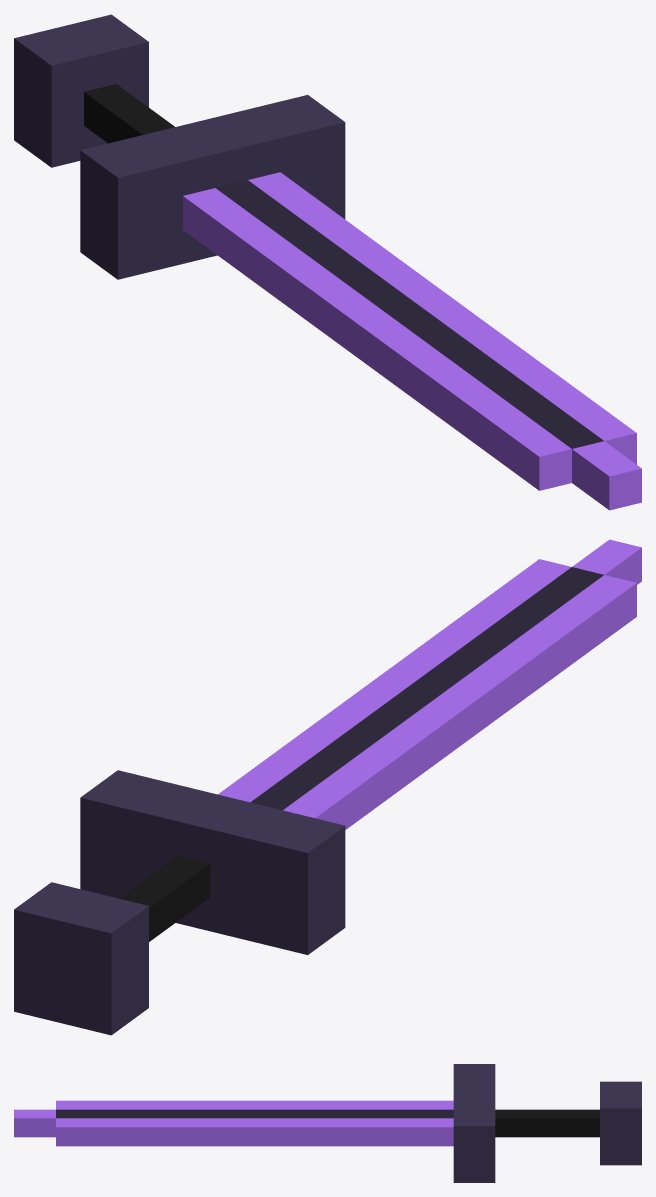
The model's file is vox_blade_shadow.glb.
The picture shows the model from 3 angles, top to bottom: view 1: azimuth 30°, elevation 25°; view 2: azimuth 150°, elevation 25°; view 3: azimuth 270°, elevation 25°; orthographic projection. The views are drawn at different scales.
Parts seen in each view (by area): view 1: vox_blade_shadow; view 2: vox_blade_shadow; view 3: vox_blade_shadow.
Boxes of the visible parts, x1,y1,x2,y2 form: vox_blade_shadow: (14,14,641,510); vox_blade_shadow: (14,539,641,1035); vox_blade_shadow: (14,1064,641,1182).
Size of the model in its own units: 0.14 by 0.06 by 0.6.
